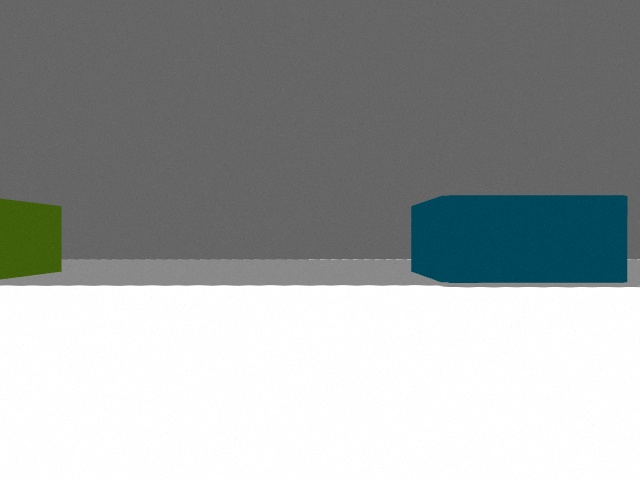blue_drop_zone: (411, 195, 628, 283)
green_drop_zone: (0, 199, 62, 279)
